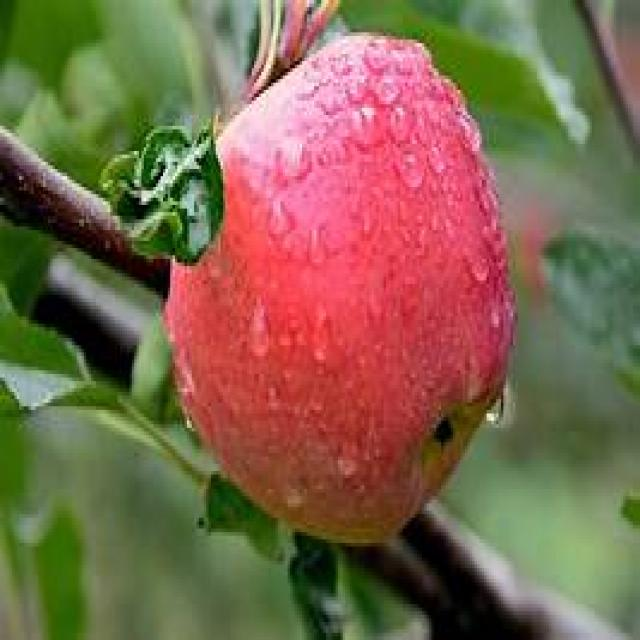apple: (163, 25, 515, 541)
